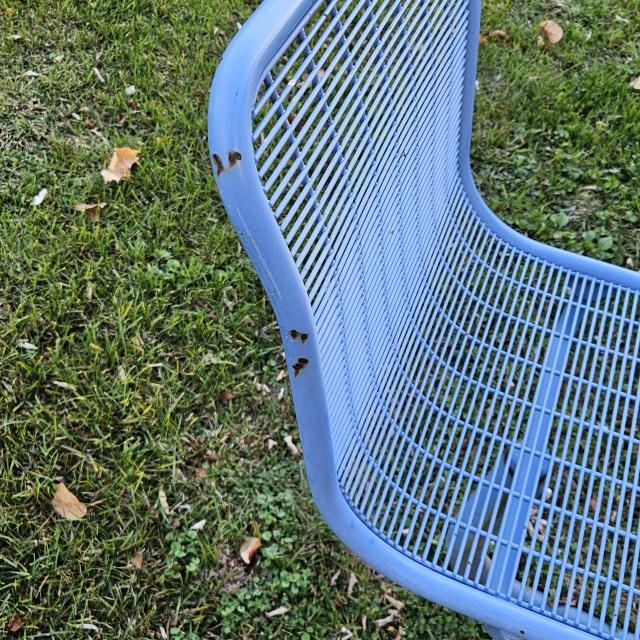Filiform Corrosion: (207, 142, 249, 183), (289, 326, 313, 379)
